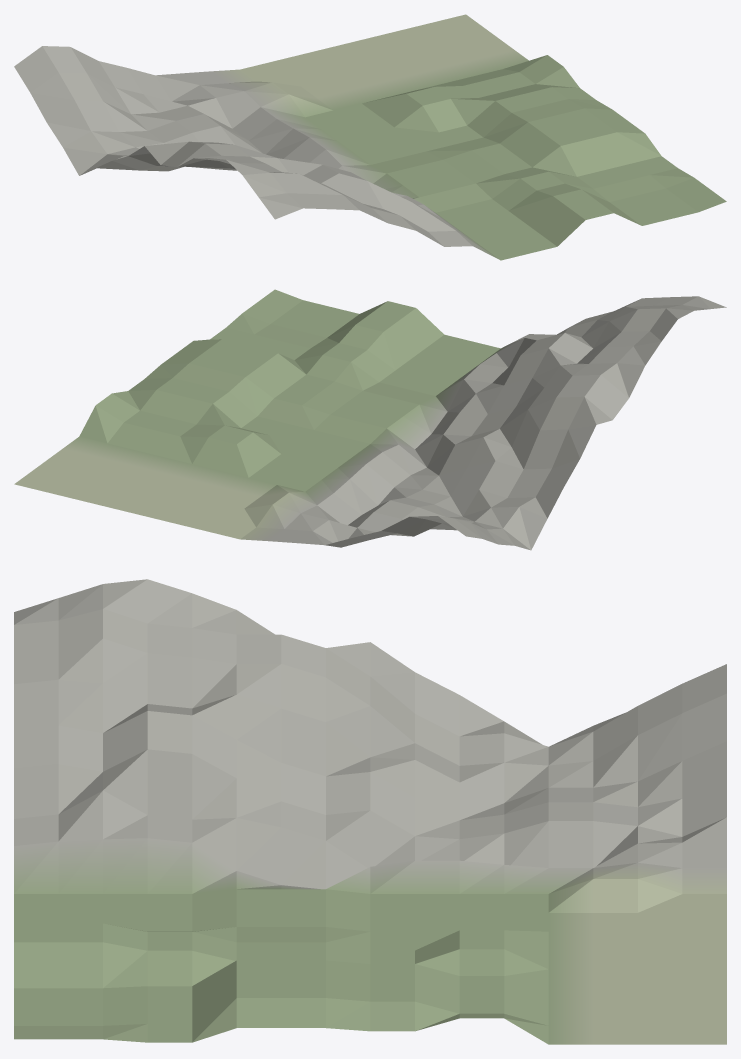
3 renders of one model, top to bottom at view 1: azimuth 30°, elevation 25°; view 2: azimuth 150°, elevation 25°; view 3: azimuth 270°, elevation 25°, orthographic. The views are drawn at different scales.
Bounding box in the file's own units: 32 × 8.94 × 32.
